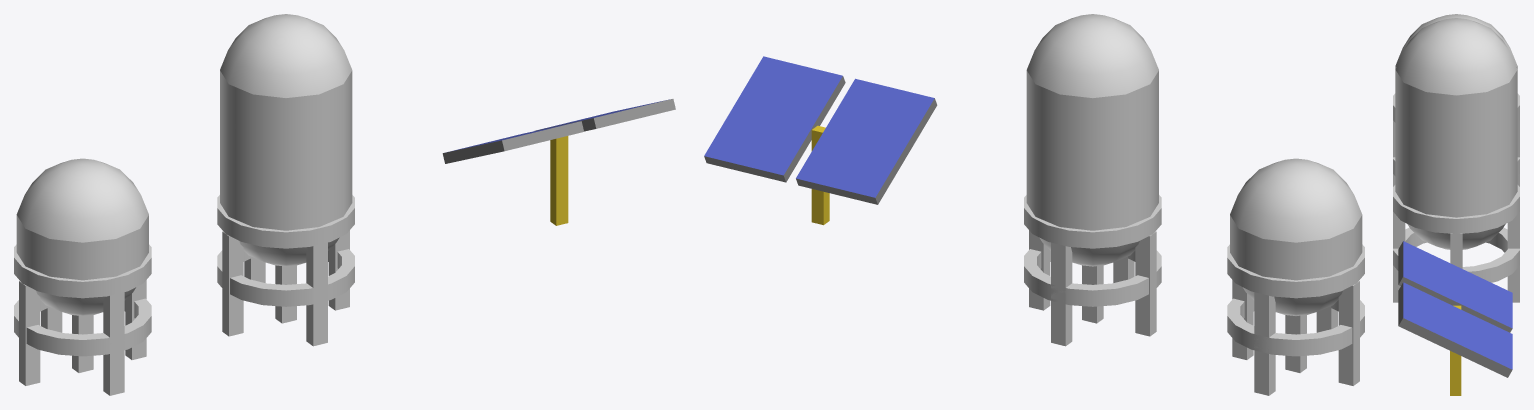
File: scraft_station_1.FBX
The picture shows the model from 3 angles, left to right: view 1: azimuth 30°, elevation 25°; view 2: azimuth 150°, elevation 25°; view 3: azimuth 270°, elevation 25°; orthographic projection. The views are drawn at different scales.
Parts seen in each view (by area): view 1: OilTank002, OilTank001, Cylinder003, Cylinder002, Box001; view 2: OilTank002, Box001, OilTank001, Cylinder003, Cylinder002; view 3: OilTank002, Box001, Cylinder003, OilTank001, Cylinder002.
Part boxes in pixels (x1,y1,x2,y2): OilTank002: (220,14,352,266); OilTank001: (16,158,148,315); Cylinder003: (217,195,354,346); Cylinder002: (14,244,151,395); Box001: (442,99,675,225); OilTank002: (1026,14,1158,266); Box001: (704,56,937,225); OilTank001: (1230,158,1362,315); Cylinder003: (1024,195,1161,346); Cylinder002: (1227,244,1364,395); OilTank002: (1395,18,1517,249); Box001: (1398,241,1512,395); Cylinder003: (1393,185,1519,302); OilTank001: (1395,14,1517,69); Cylinder002: (1393,93,1519,186).
Size of the model in its own units: 1084 by 498 by 208.
